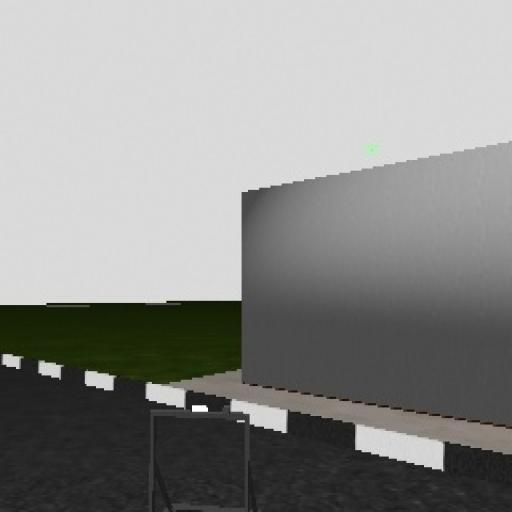huskya200: (136, 400, 259, 512)
